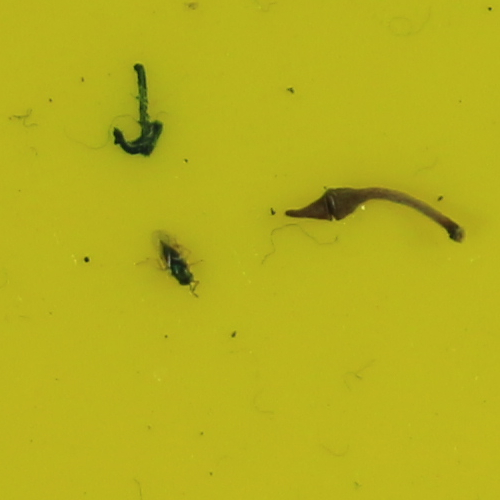wasp: (158, 235, 195, 290)
